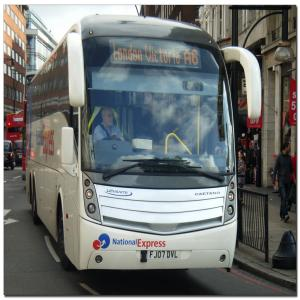Vehicle-registration-plate: (147, 251, 181, 259)
